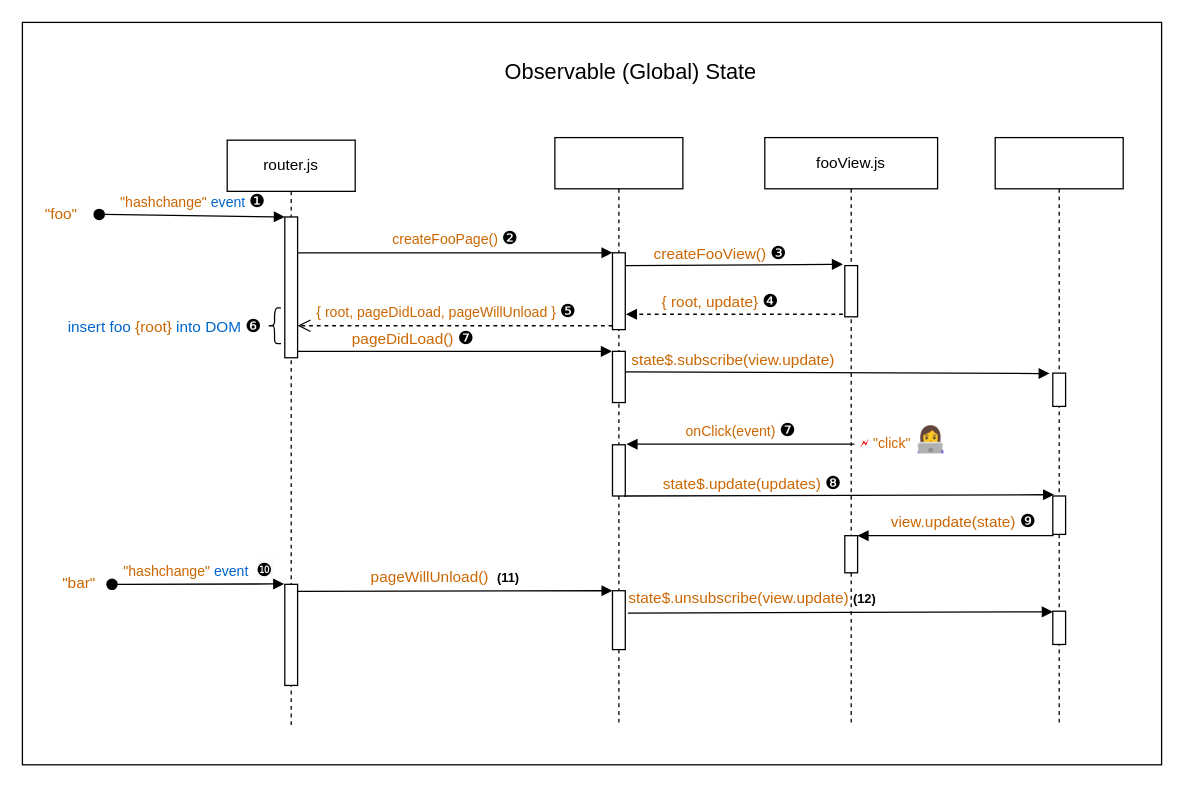
Image size: 1184x787. Some labels were removed from this diagram. Here are the shapes that lost their labels. From the top down, the centre of each, then its label:
At [618,431]: "fooPage.js".
At [1058,431]: "state.js".
